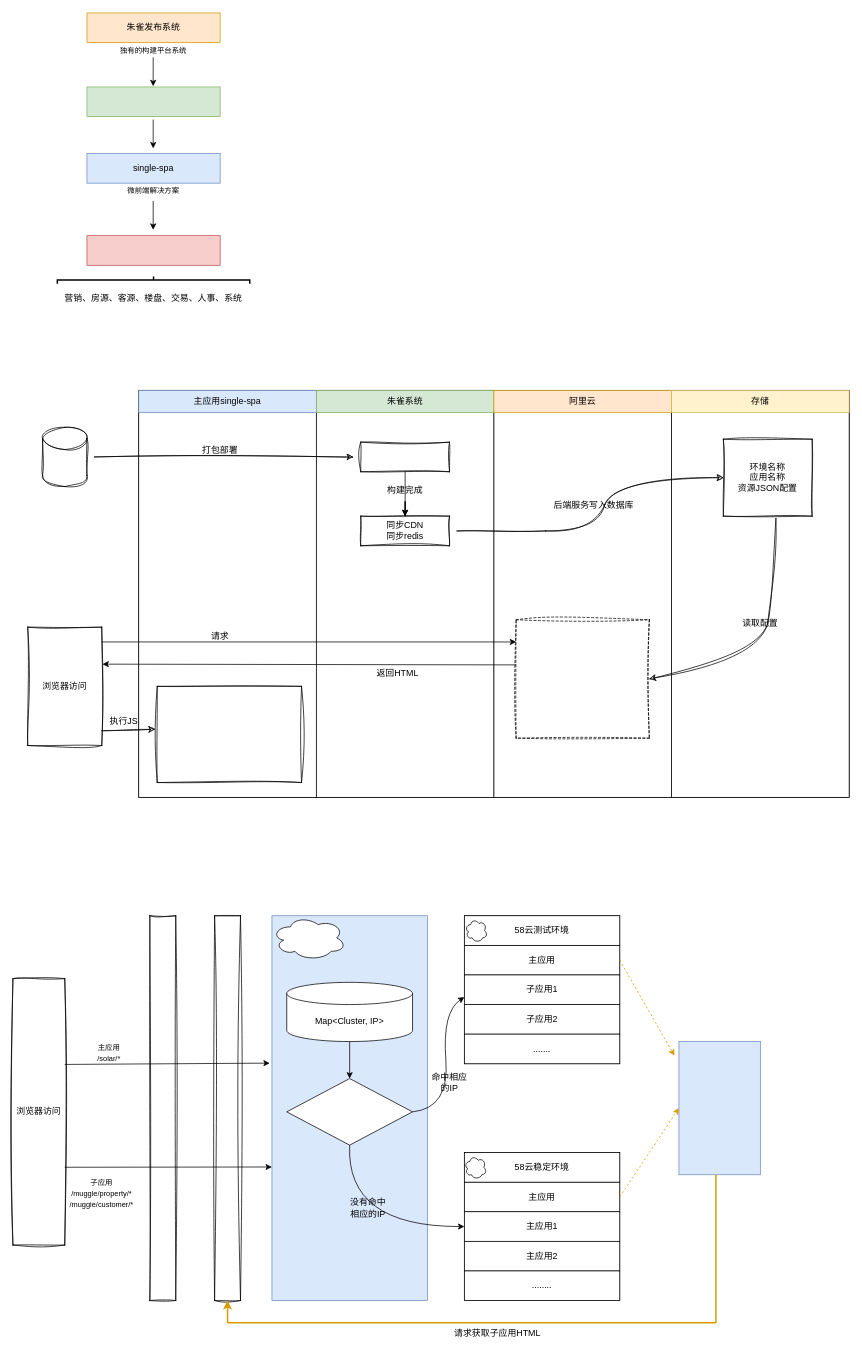
The diagram is 862 pixels wide and 1358 high, and some of its shapes have lost their labels. Here are the shapes that lost their labels. From the top down, the centre of each, then its label:
At (153,101): "BFF服务层".
At (153,250): "业务七巧板".
At (64,457): "代码仓库".
At (405,456): "根据环境构建打包".
At (582,678): "Node BFF 组装HTML（主应用 + 子应用）".
At (229,734): "主应用运行 激活子应用".
At (308,937): "代理服务器".
At (162,1108): "网关".
At (227,1108): "内网调用域名".
At (349,1111): "用户Cookie映射IP".
At (719,1108): "主应用优化 1、获取子应用HTML，服务器端解析scripts + style 2、缓存策略".
